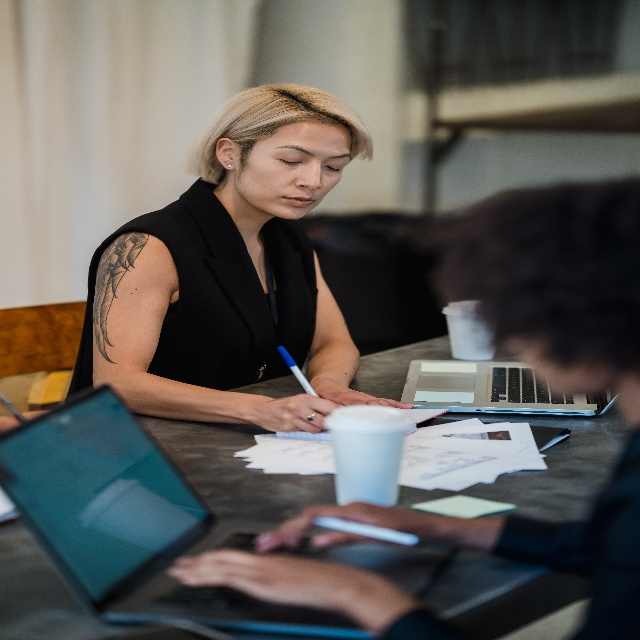Sin_guantes: (169, 546, 394, 619), (254, 491, 460, 557), (312, 375, 413, 412), (268, 393, 336, 431)
